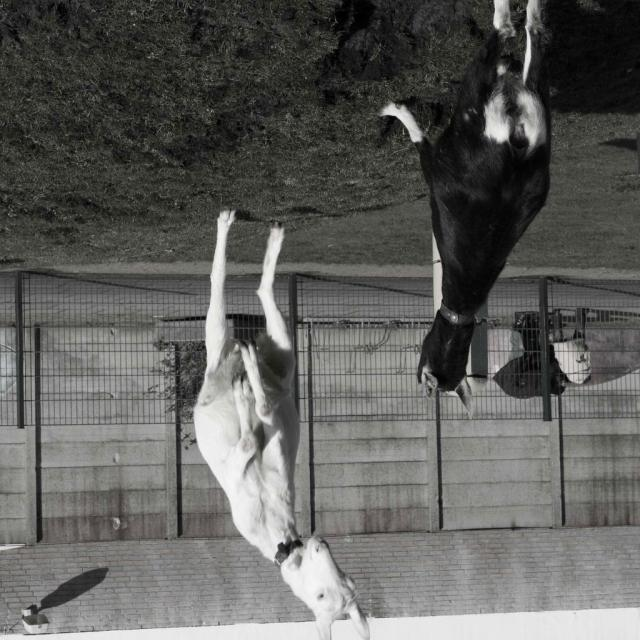Goat: (192, 209, 372, 640), (378, 1, 555, 419), (491, 313, 568, 401)
